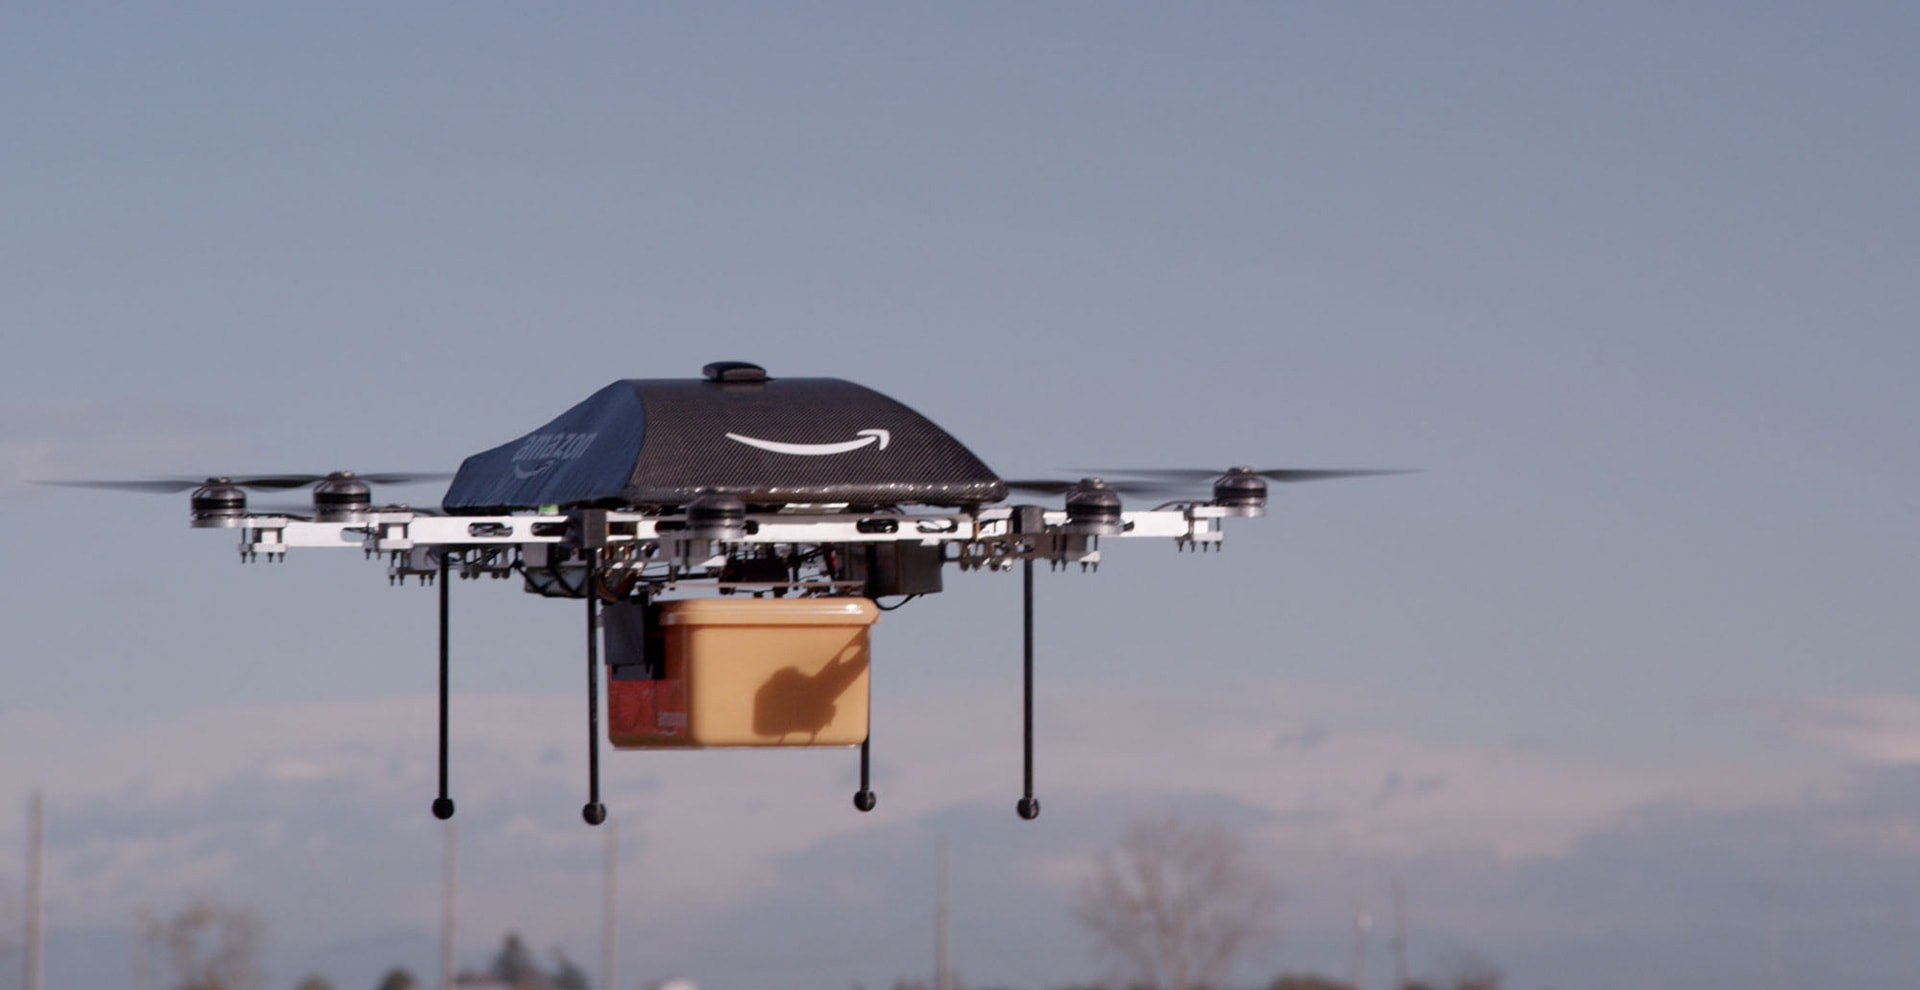drone: (28, 352, 1438, 831)
